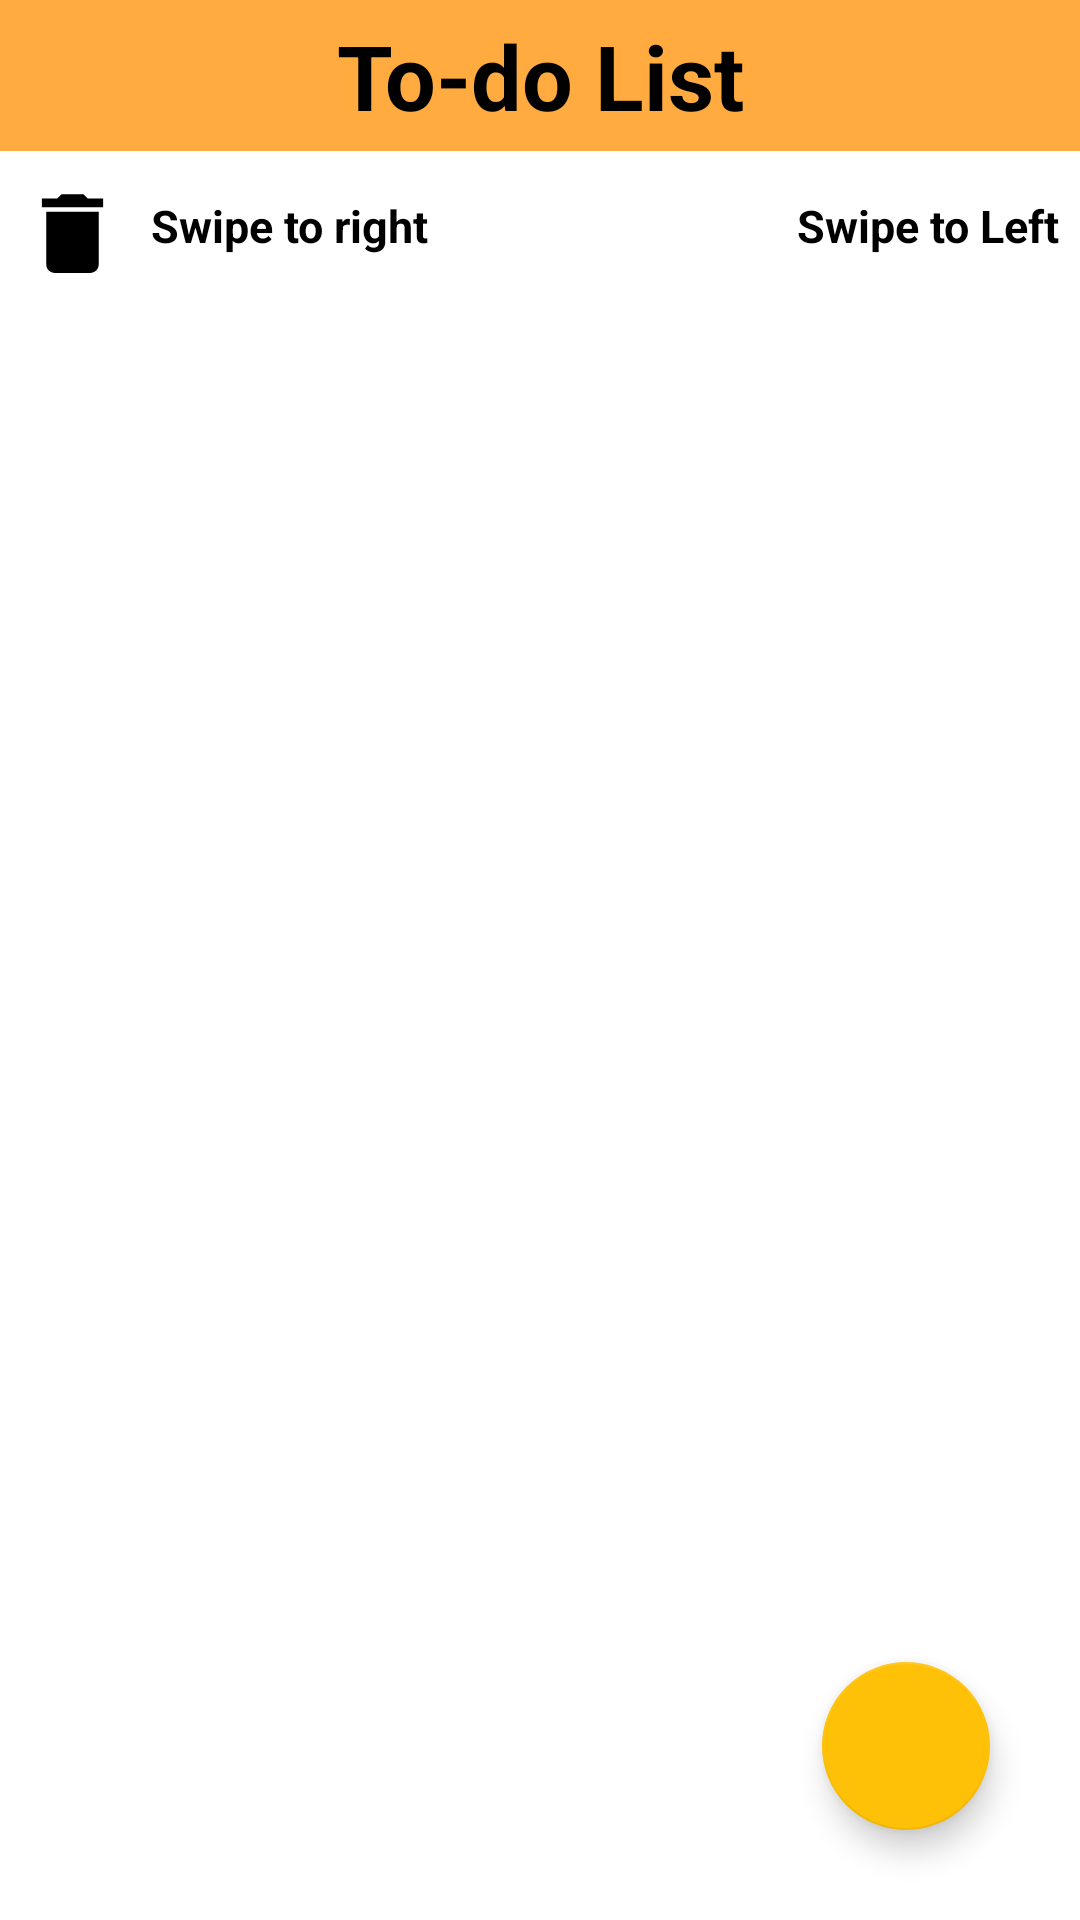

Named icons in this screenshot (1080x1920) and their centers, [x,y]:
delete: [72,233]
